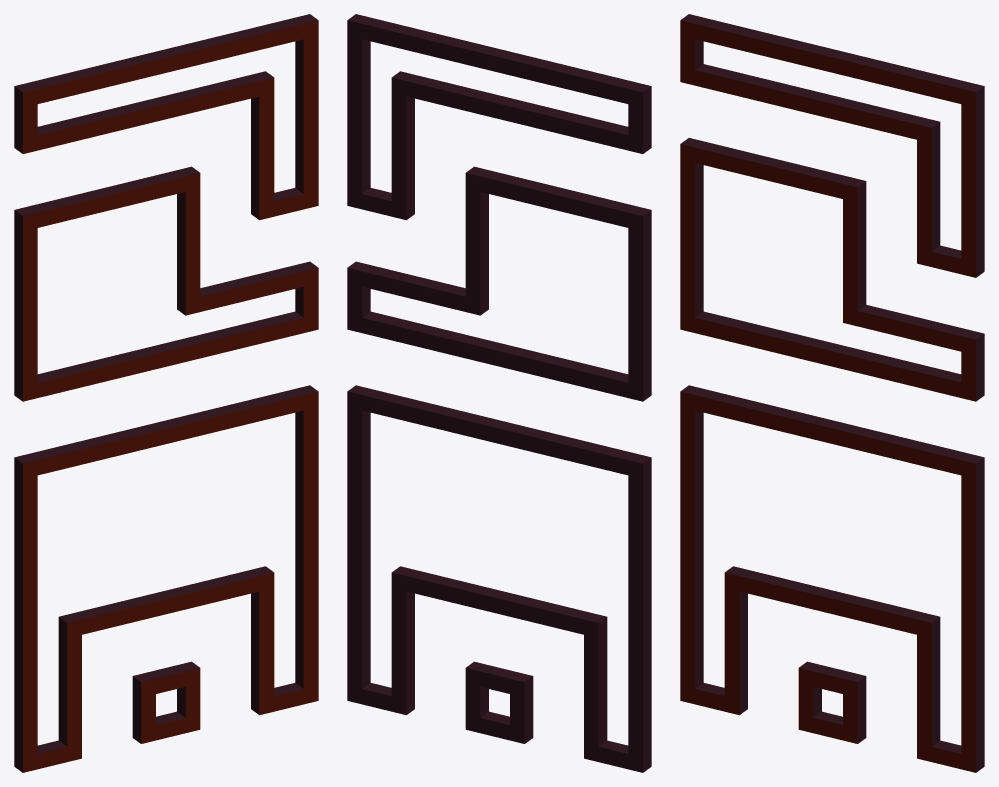
File: neon_zuao.fezao.glb
3 renders of one model, left to right at view 1: azimuth 30°, elevation 25°; view 2: azimuth 150°, elevation 25°; view 3: azimuth 330°, elevation 25°, orthographic.
Visible parts, largest first — view 1: NEON_ZUAO; view 2: NEON_ZUAO; view 3: NEON_ZUAO.
Part boxes in pixels (x1,y1,x2,y2): NEON_ZUAO: (14,14,318,772); NEON_ZUAO: (347,14,651,772); NEON_ZUAO: (680,14,984,772).
Size of the model in its own units: 1.25 by 2.75 by 0.0625.
Materials: 1 (1 with a texture image).
